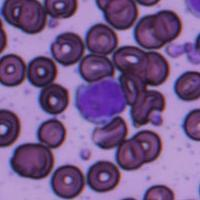L: (74, 75, 126, 123)
